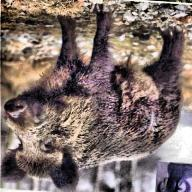boar: (8, 0, 191, 192)
